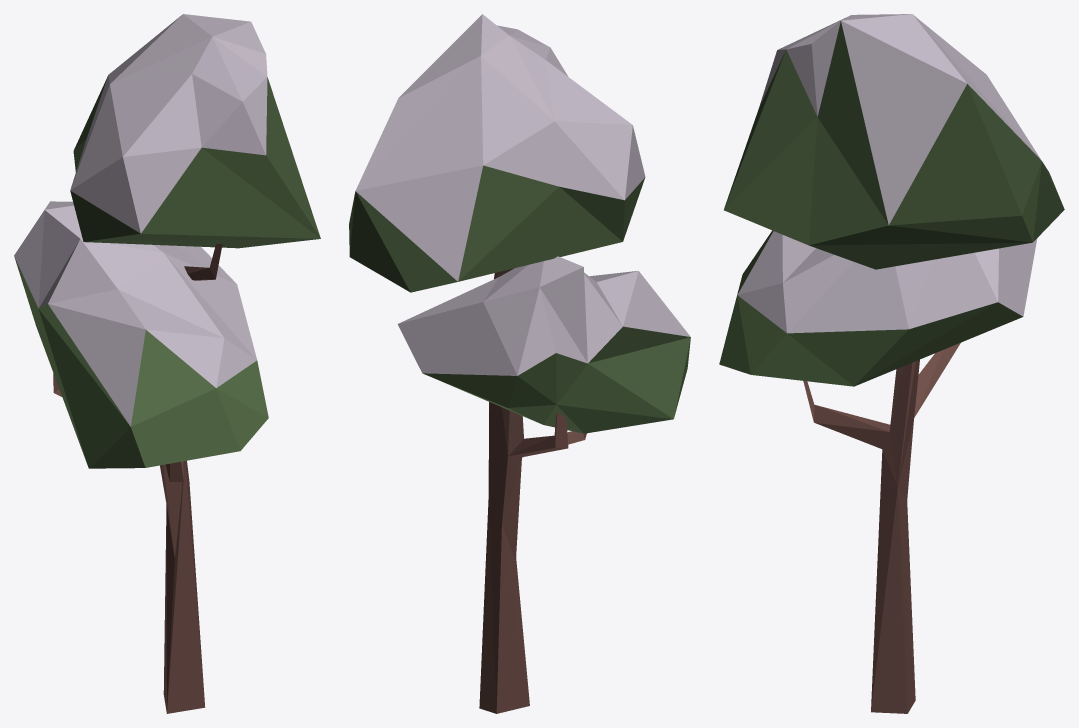
Rendered from CommonTree_Snow_3.lod3.glb.
3 renders of one model, left to right at view 1: azimuth 30°, elevation 25°; view 2: azimuth 150°, elevation 25°; view 3: azimuth 270°, elevation 25°, orthographic. The views are drawn at different scales.
Parts seen in each view (by area): view 1: CommonTree_Snow_3; view 2: CommonTree_Snow_3; view 3: CommonTree_Snow_3.
Boxes of the visible parts, x1,y1,x2,y2 form: CommonTree_Snow_3: (14, 14, 320, 713); CommonTree_Snow_3: (349, 14, 690, 713); CommonTree_Snow_3: (719, 14, 1064, 713).
Size of the model in its own units: 1.23 by 3.45 by 1.53.
